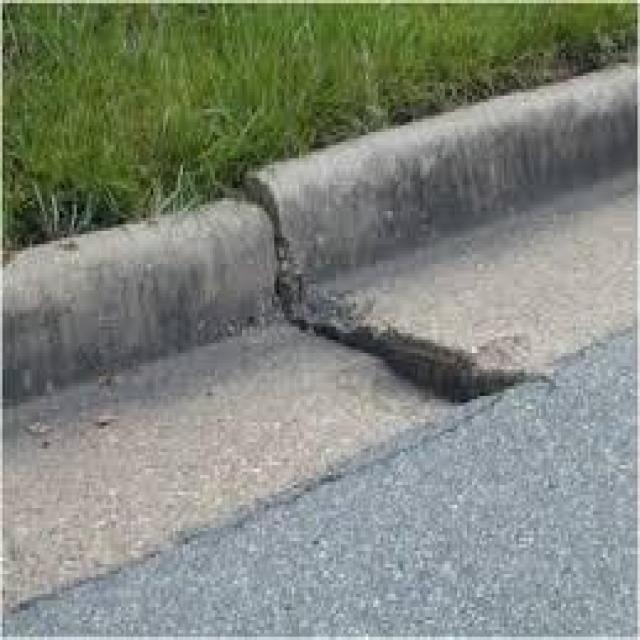curb: (269, 72, 640, 392), (6, 208, 274, 429)
